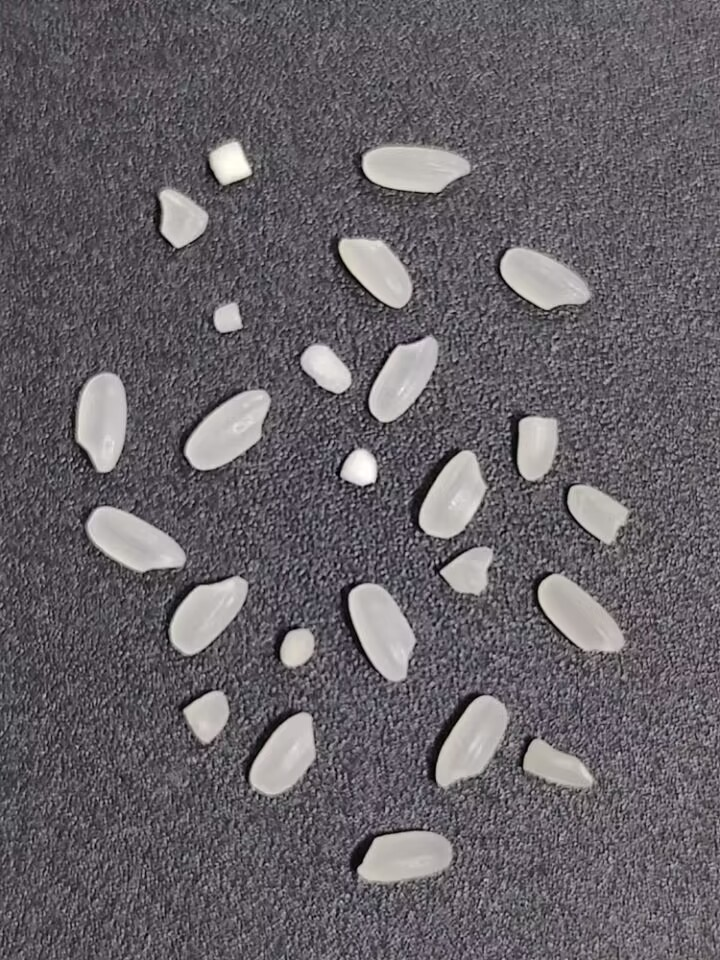broken: (564, 480, 630, 545), (522, 737, 595, 789), (152, 187, 211, 251), (512, 415, 562, 485), (297, 344, 354, 396), (199, 138, 257, 188), (181, 687, 230, 746), (440, 545, 493, 593), (277, 624, 320, 670), (336, 446, 379, 489), (209, 298, 242, 338)
rice: (535, 568, 628, 657), (179, 385, 274, 472), (431, 693, 511, 791), (84, 503, 189, 577), (343, 581, 419, 683), (365, 329, 440, 425), (166, 573, 250, 658), (417, 450, 487, 541), (499, 244, 593, 311), (247, 709, 317, 798), (74, 368, 130, 474), (337, 237, 416, 310), (362, 145, 471, 194), (355, 830, 455, 883)
